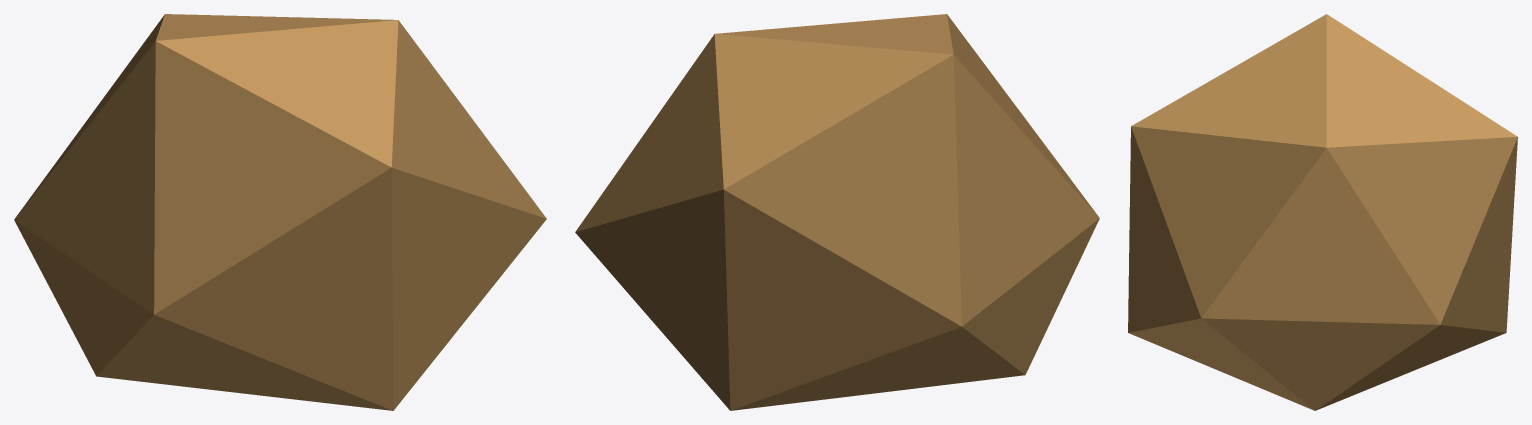
Rendered from TB_D_Env_GrassD_B.FBX.
3 renders of one model, left to right at view 1: azimuth 30°, elevation 25°; view 2: azimuth 150°, elevation 25°; view 3: azimuth 270°, elevation 25°, orthographic. The views are drawn at different scales.
Parts seen in each view (by area): view 1: TB_D_Env_GrassD_B; view 2: TB_D_Env_GrassD_B; view 3: TB_D_Env_GrassD_B.
Part boxes in pixels (left/top/right/bottom): TB_D_Env_GrassD_B: left=14, top=14, right=546, bottom=410; TB_D_Env_GrassD_B: left=575, top=14, right=1099, bottom=410; TB_D_Env_GrassD_B: left=1128, top=14, right=1517, bottom=410.
Bounding box in the file's own units: 1.26 × 0.9639 × 1.27.
